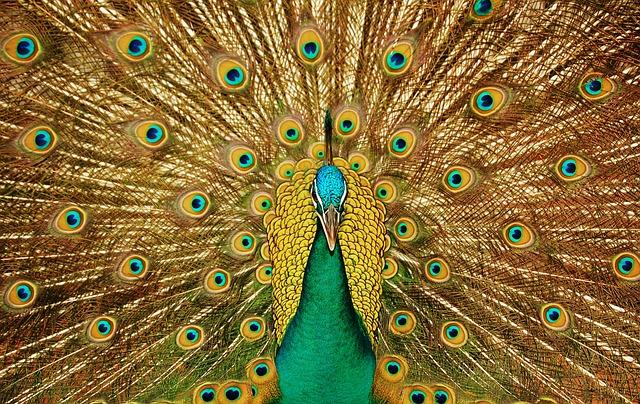Non_Gorille: (178, 14, 527, 358)
